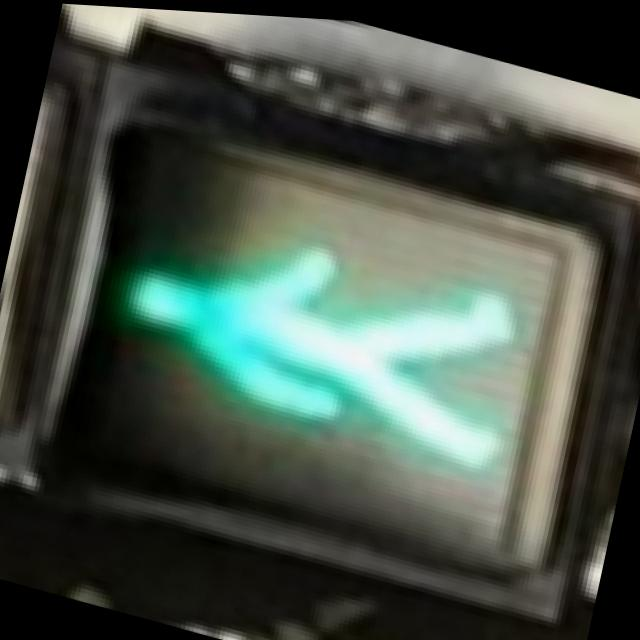green_light: (74, 106, 584, 560)
